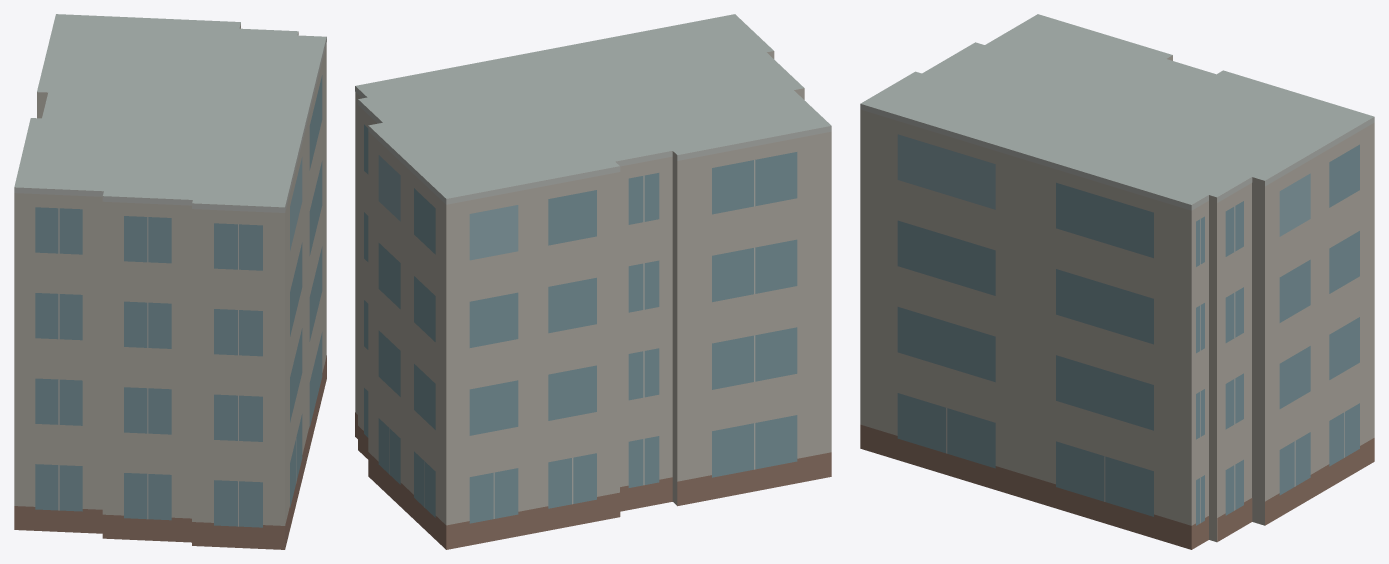
File: survey-upis-32754519.glb
3 renders of one model, left to right at view 1: azimuth 30°, elevation 25°; view 2: azimuth 150°, elevation 25°; view 3: azimuth 270°, elevation 25°, orthographic. The views are drawn at different scales.
Parts seen in each view (by area): view 1: survey-upis-32754519.tmp; view 2: survey-upis-32754519.tmp; view 3: survey-upis-32754519.tmp.
Part boxes in pixels (x1,y1,x2,y2): survey-upis-32754519.tmp: (14, 14, 326, 549); survey-upis-32754519.tmp: (355, 14, 831, 549); survey-upis-32754519.tmp: (860, 14, 1374, 549).
Size of the model in its own units: 17.47 by 14.7 by 19.88.
